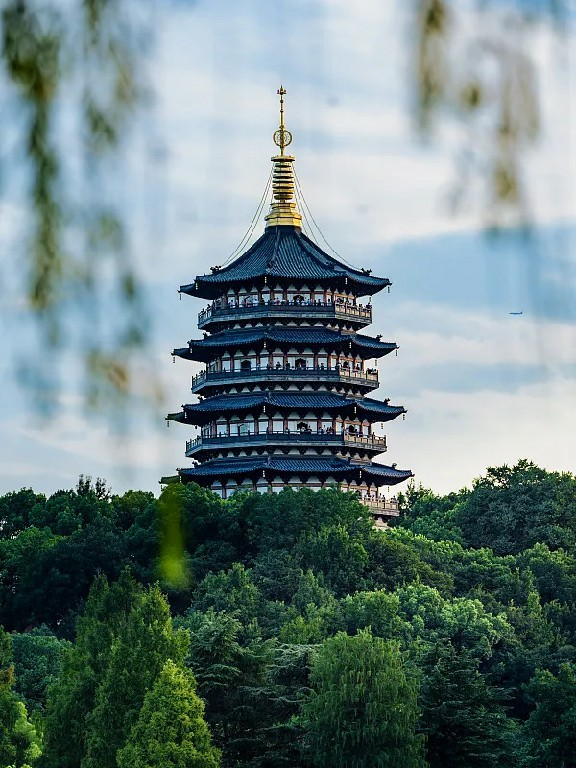Leifeng: (158, 81, 414, 533)
